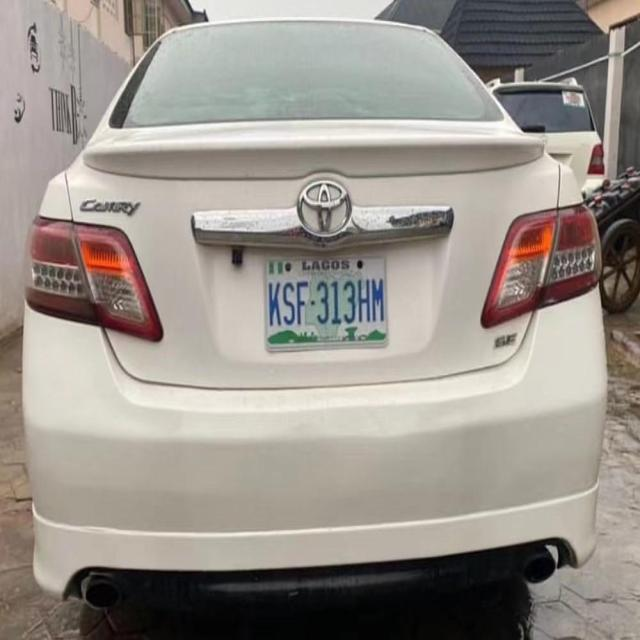Nigerian License Plate - vdataset benjamin-daria: (262, 244, 390, 353)
